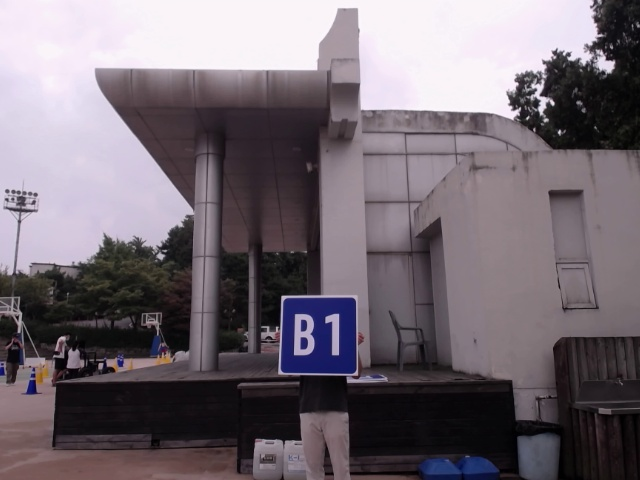delivery_b1: (279, 296, 358, 375)
